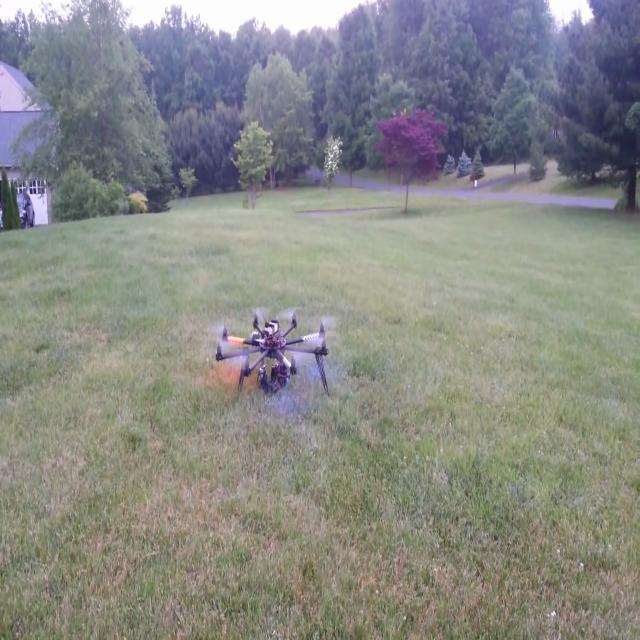drone: (199, 291, 334, 472)
